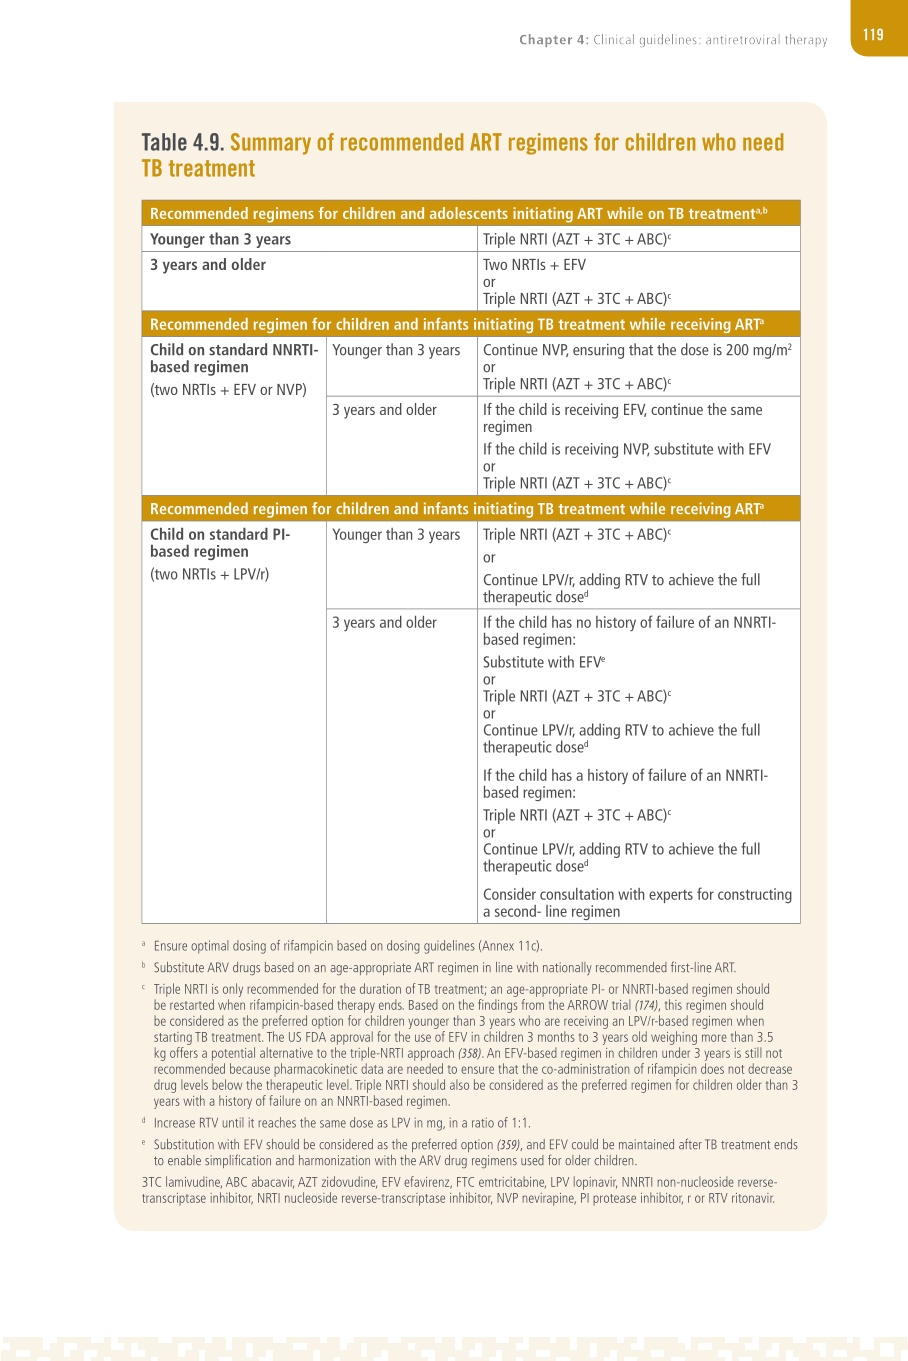merged_cells: (141, 199, 801, 926)
